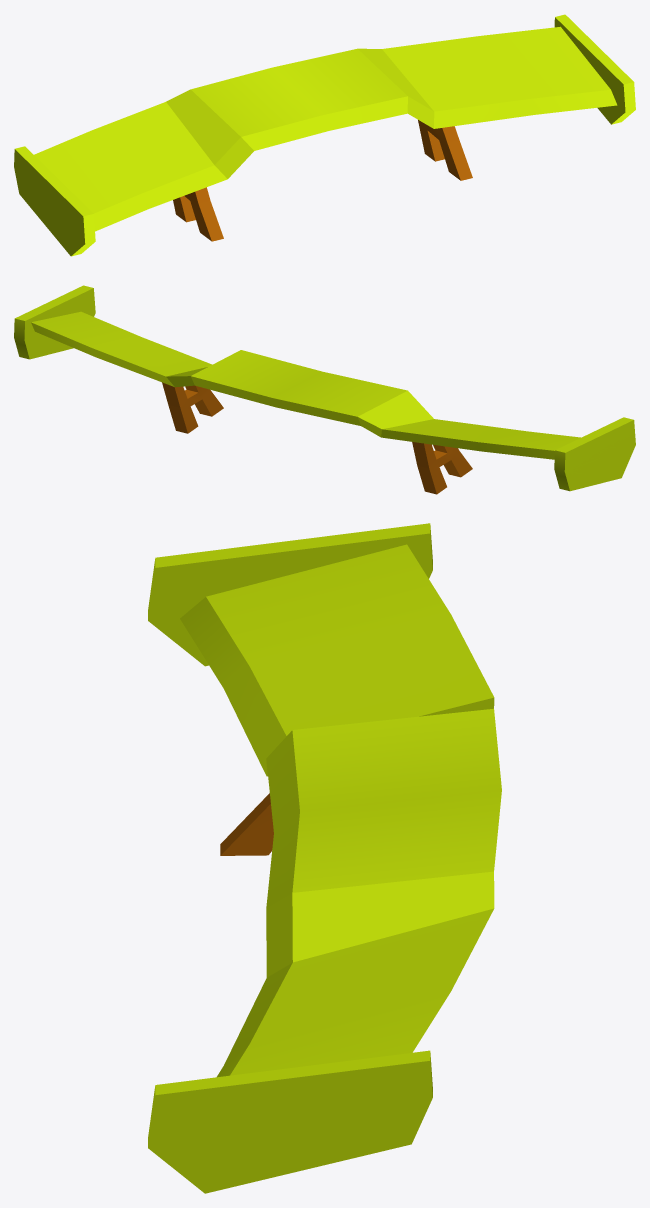
The model's file is Spoiler09_ColorCoded.fbx.
3 views of the same model, one above another, from view 1: azimuth 30°, elevation 25°; view 2: azimuth 150°, elevation 25°; view 3: azimuth 270°, elevation 25° (orthographic). The views are drawn at different scales.
Parts seen in each view (by area): view 1: Spoiler09; view 2: Spoiler09; view 3: Spoiler09.
Boxes of the visible parts, x1,y1,x2,y2 form: Spoiler09: (14,14,635,256); Spoiler09: (14,285,635,494); Spoiler09: (148,523,501,1193).
Size of the model in its own units: 45.69 by 12.72 by 7.19.
